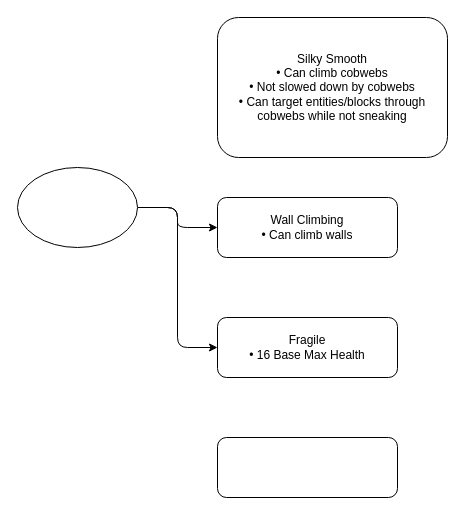
The diagram is 465 pixels wide and 515 high, and some of its shapes have lost their labels. The shapes that lost their labels are listed below. From the top down, each one's box as (x1, y1, x2, y2) in pixels, then its label:
(16, 166, 138, 248): Arachnid
(216, 436, 398, 498): Poison Resistance • Immune to poison
